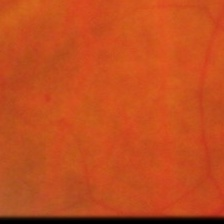MA: (44, 94, 51, 102)
